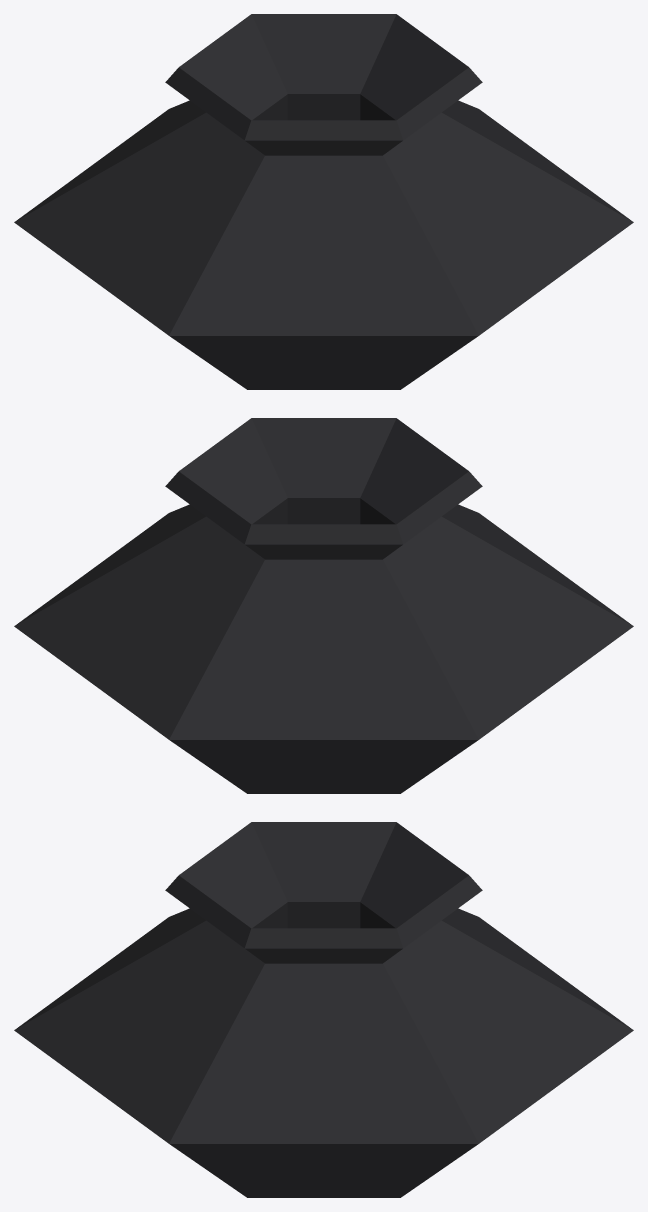
File: Ink.fbx
The picture shows the model from 3 angles, top to bottom: view 1: azimuth 30°, elevation 25°; view 2: azimuth 150°, elevation 25°; view 3: azimuth 270°, elevation 25°; orthographic projection.
Visible parts, largest first — view 1: Ink; view 2: Ink; view 3: Ink.
Boxes of the visible parts, bbox=[...] form: Ink: bbox=[14, 14, 633, 389]; Ink: bbox=[14, 418, 633, 793]; Ink: bbox=[14, 822, 633, 1197].
Bounding box in the file's own units: 0.2259 × 0.2608 × 0.1236.
